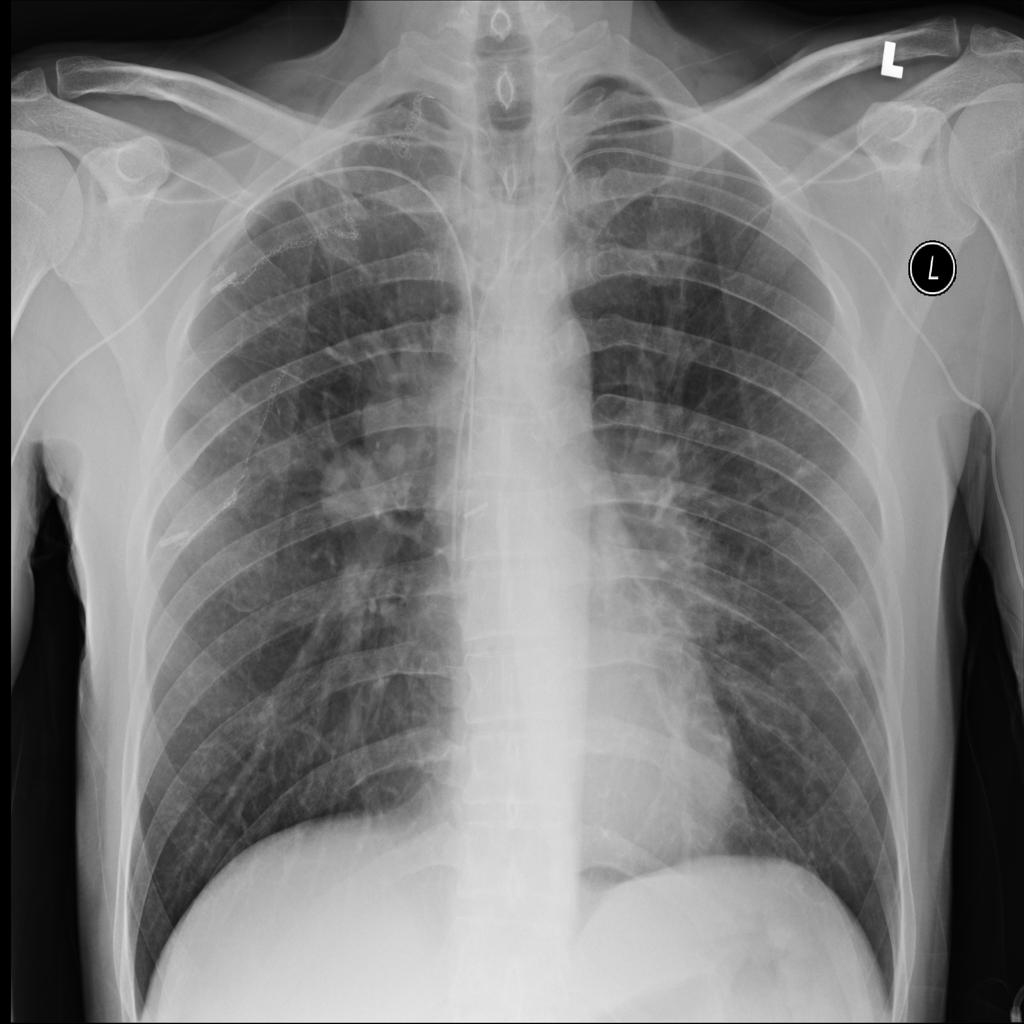nodule: (309, 425, 408, 544)
